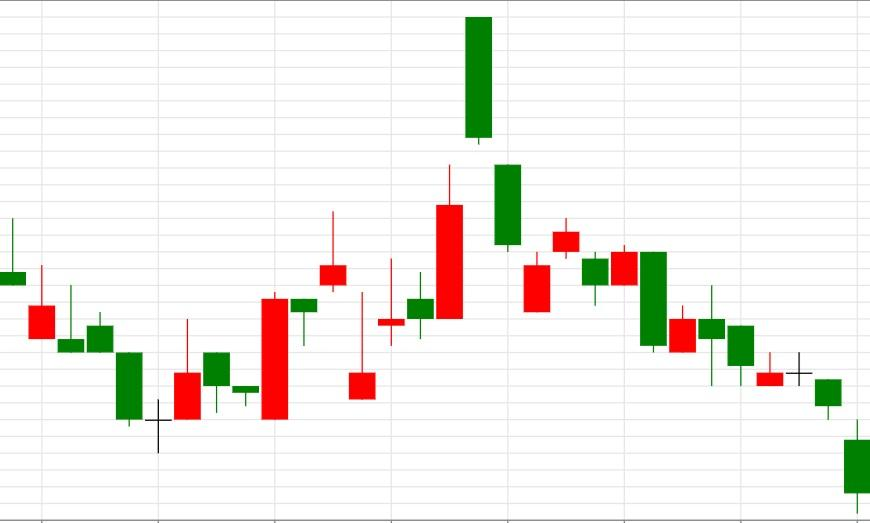morning_star_rise: (0, 218, 202, 454)
